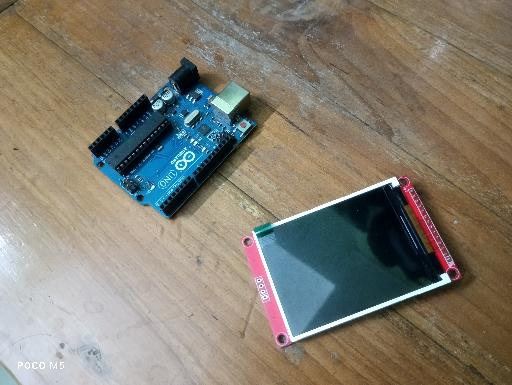Arduino: (87, 56, 258, 220)
Display: (241, 175, 462, 351)
